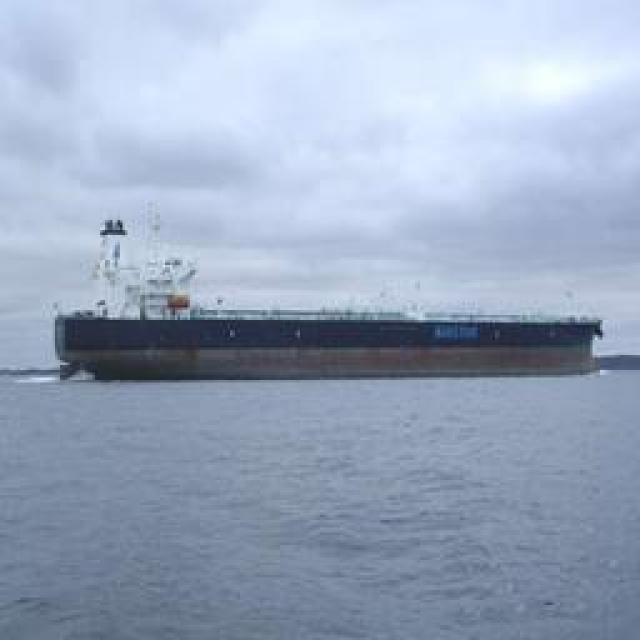CIV_Ship: (62, 304, 602, 376)
